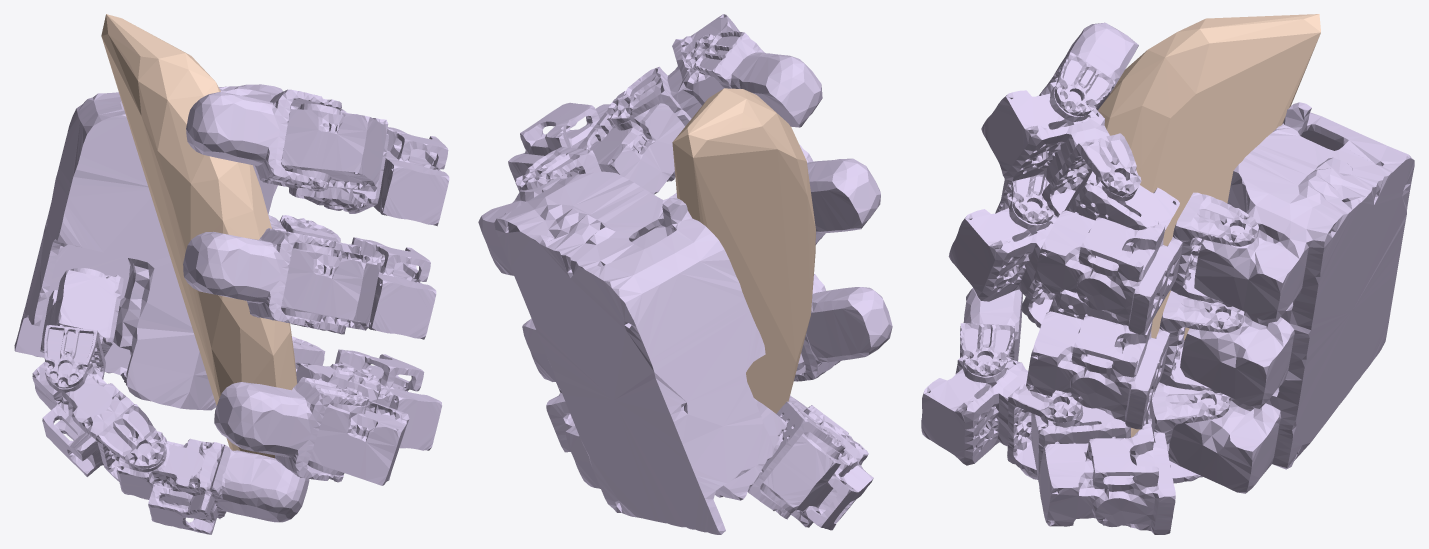
Rendered from de2b5dd615bee0-final.glb.
The picture shows the model from 3 angles, left to right: view 1: azimuth 30°, elevation 25°; view 2: azimuth 150°, elevation 25°; view 3: azimuth 270°, elevation 25°; orthographic projection. The views are drawn at different scales.
Parts seen in each view (by area): view 1: LEAP_hand, world; view 2: LEAP_hand, world; view 3: LEAP_hand, world.
Boxes of the visible parts, <box> form: LEAP_hand: <box>14,84,449,534</box>; world: <box>101,14,297,458</box>; LEAP_hand: <box>478,14,892,534</box>; world: <box>672,88,815,413</box>; LEAP_hand: <box>921,22,1414,534</box>; world: <box>1098,14,1320,437</box>.
Size of the model in its own units: 0.1612 by 0.1857 by 0.1813.
